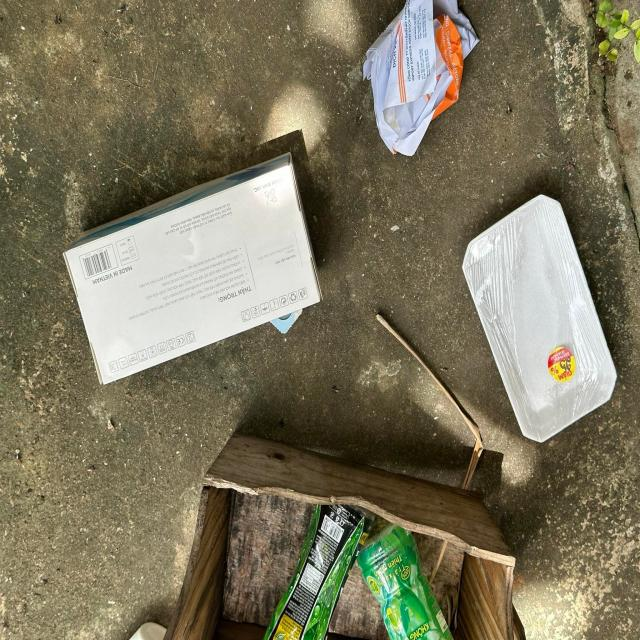bottle: (264, 504, 375, 640), (356, 523, 456, 640)
cardboard box: (62, 152, 324, 386)
foam box: (462, 194, 617, 443)
paper: (362, 0, 480, 157)
